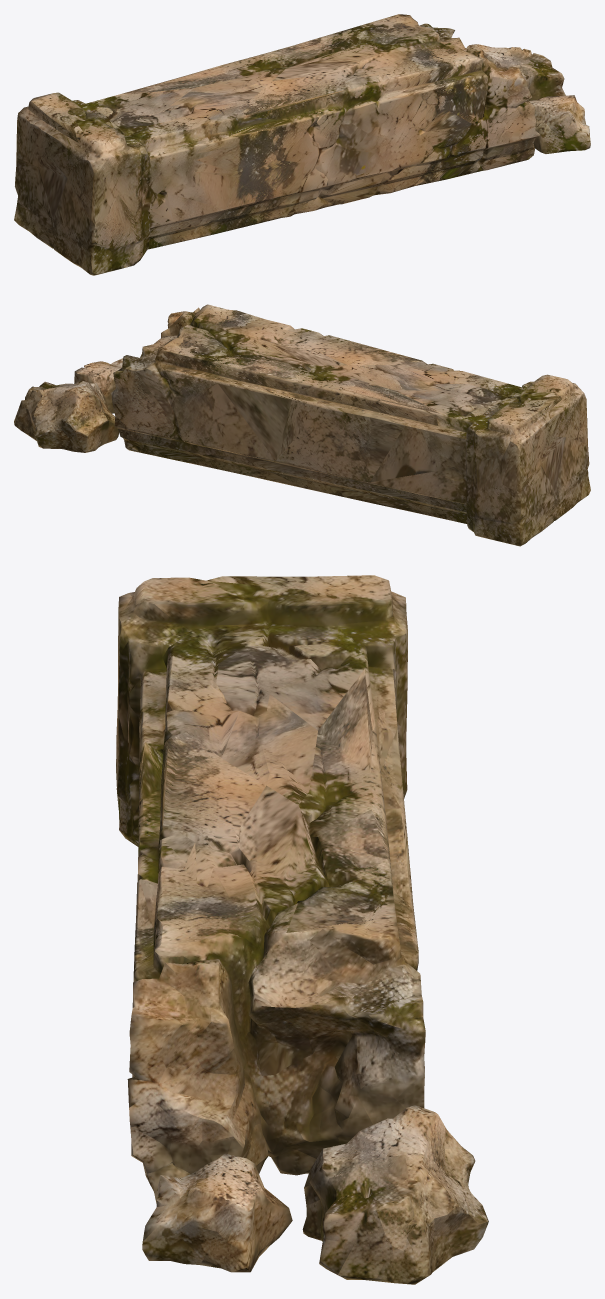
File: ARQ_ColumnaDerrumbada_01_LOD1.fbx
3 renders of one model, top to bottom at view 1: azimuth 30°, elevation 25°; view 2: azimuth 150°, elevation 25°; view 3: azimuth 270°, elevation 25°, orthographic. The views are drawn at different scales.
Visible parts, largest first — view 1: ARQ_ColumnaDerrumbada_01_Mesh000; view 2: ARQ_ColumnaDerrumbada_01_Mesh000; view 3: ARQ_ColumnaDerrumbada_01_Mesh000.
Boxes of the visible parts, x1,y1,x2,y2 form: ARQ_ColumnaDerrumbada_01_Mesh000: [14, 14, 590, 275]; ARQ_ColumnaDerrumbada_01_Mesh000: [14, 304, 590, 546]; ARQ_ColumnaDerrumbada_01_Mesh000: [116, 575, 488, 1284].
Bounding box in the file's own units: 3.2 × 0.7099 × 1.03.
